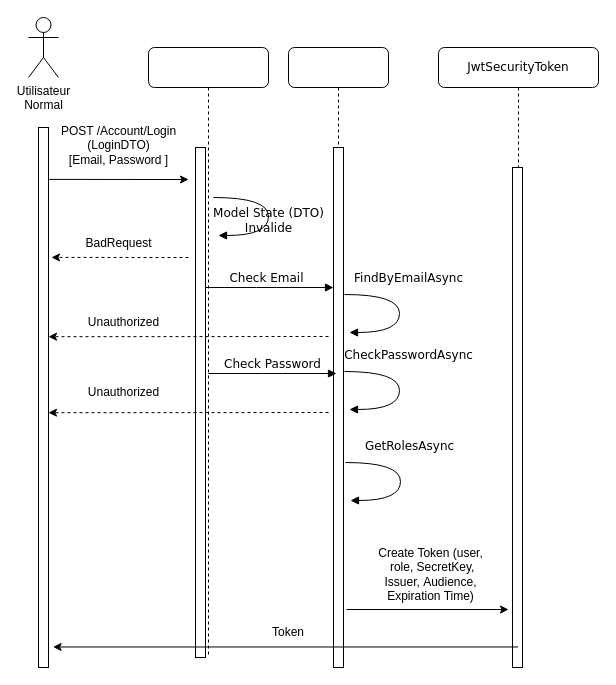
Some shapes in this 616 by 685 pixel diagram are drawn without their labels. Each missing label, with the box of its shape:
AccountController: (148, 46, 268, 658)
userManager: (288, 46, 388, 668)
